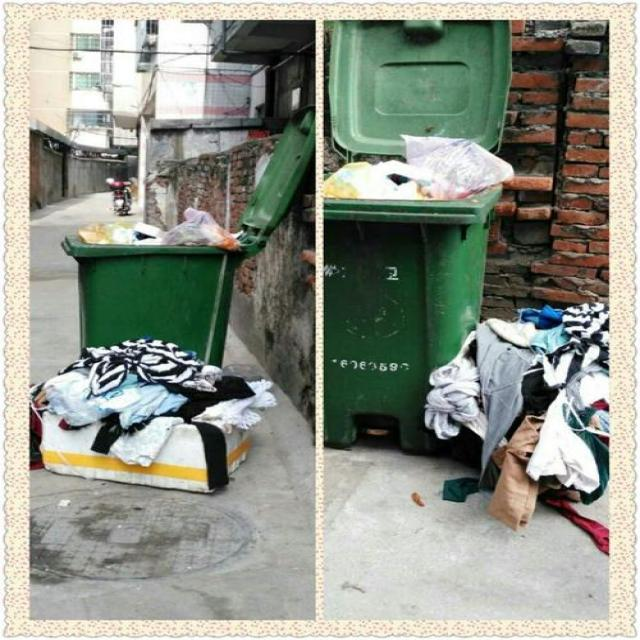garbage: (422, 301, 608, 552), (27, 339, 276, 491)
overflow: (322, 134, 510, 446), (60, 206, 237, 367)
